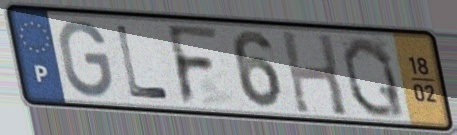6: (228, 28, 284, 112)
F: (163, 22, 223, 109)
G: (57, 18, 116, 100)
H: (277, 28, 350, 120)
L: (112, 23, 173, 102)
Q: (339, 33, 409, 121)
